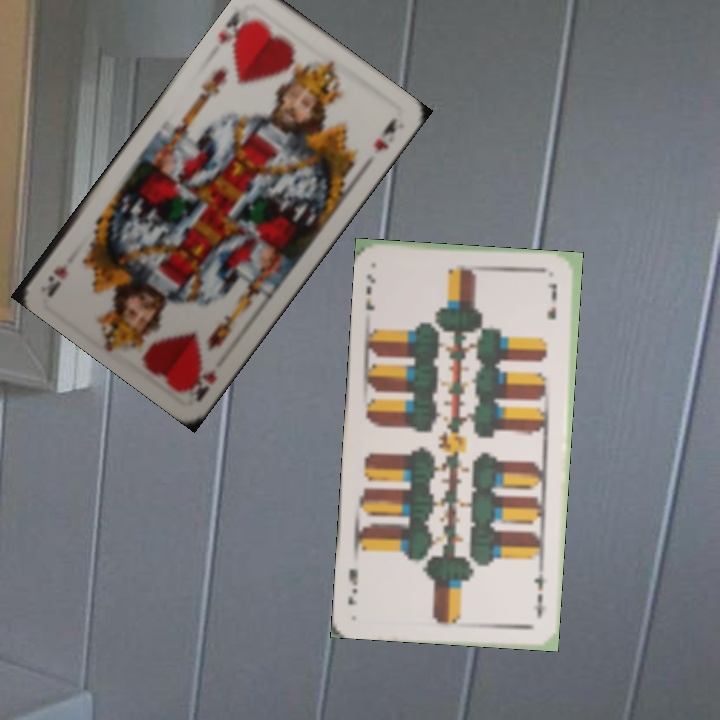E7: (528, 565, 546, 621), (362, 271, 379, 314)
HK: (214, 7, 259, 56), (182, 363, 220, 404)
